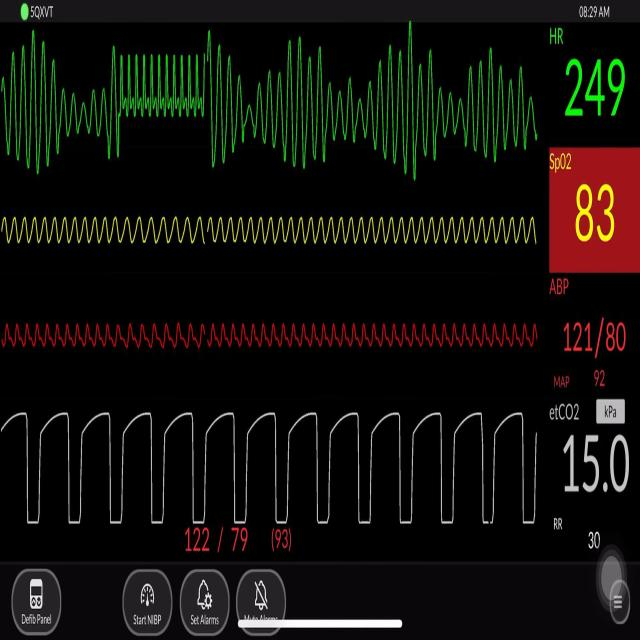danger: (3, 38, 537, 184)
